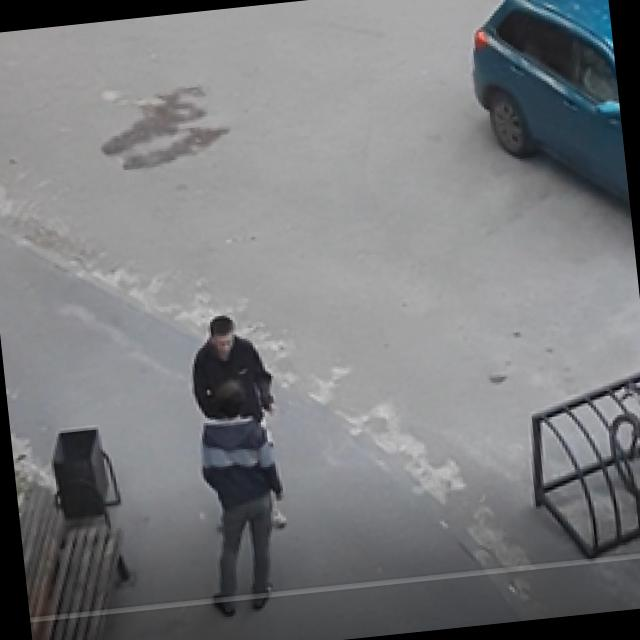person: (191, 376, 295, 618), (184, 311, 288, 533)
